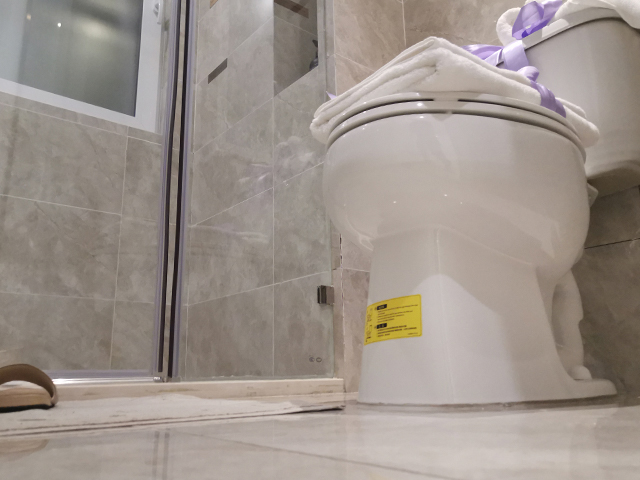carpet: (1, 393, 346, 439)
closestool: (307, 1, 640, 406)
slippers: (1, 362, 60, 412)
